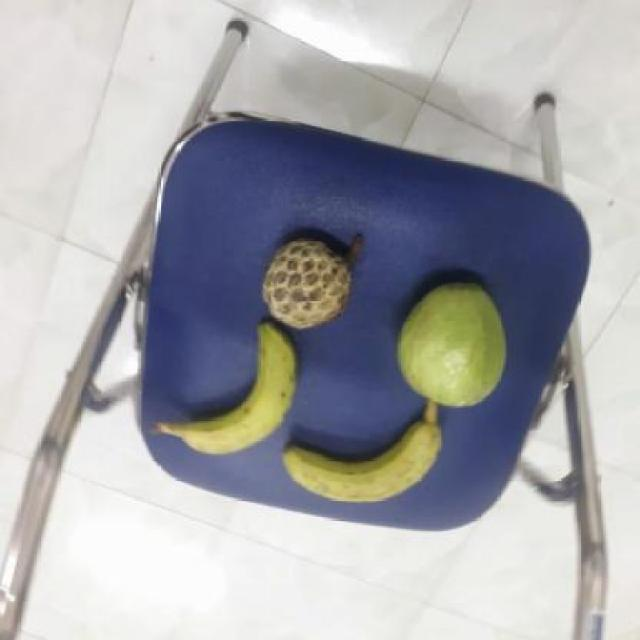banana: (174, 324, 305, 455)
guava: (398, 278, 514, 409)
sugar apple: (263, 234, 366, 328)
